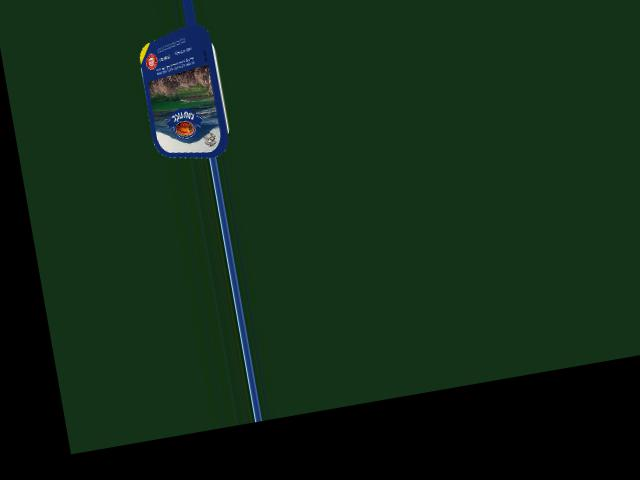cheese: (133, 34, 240, 158)
